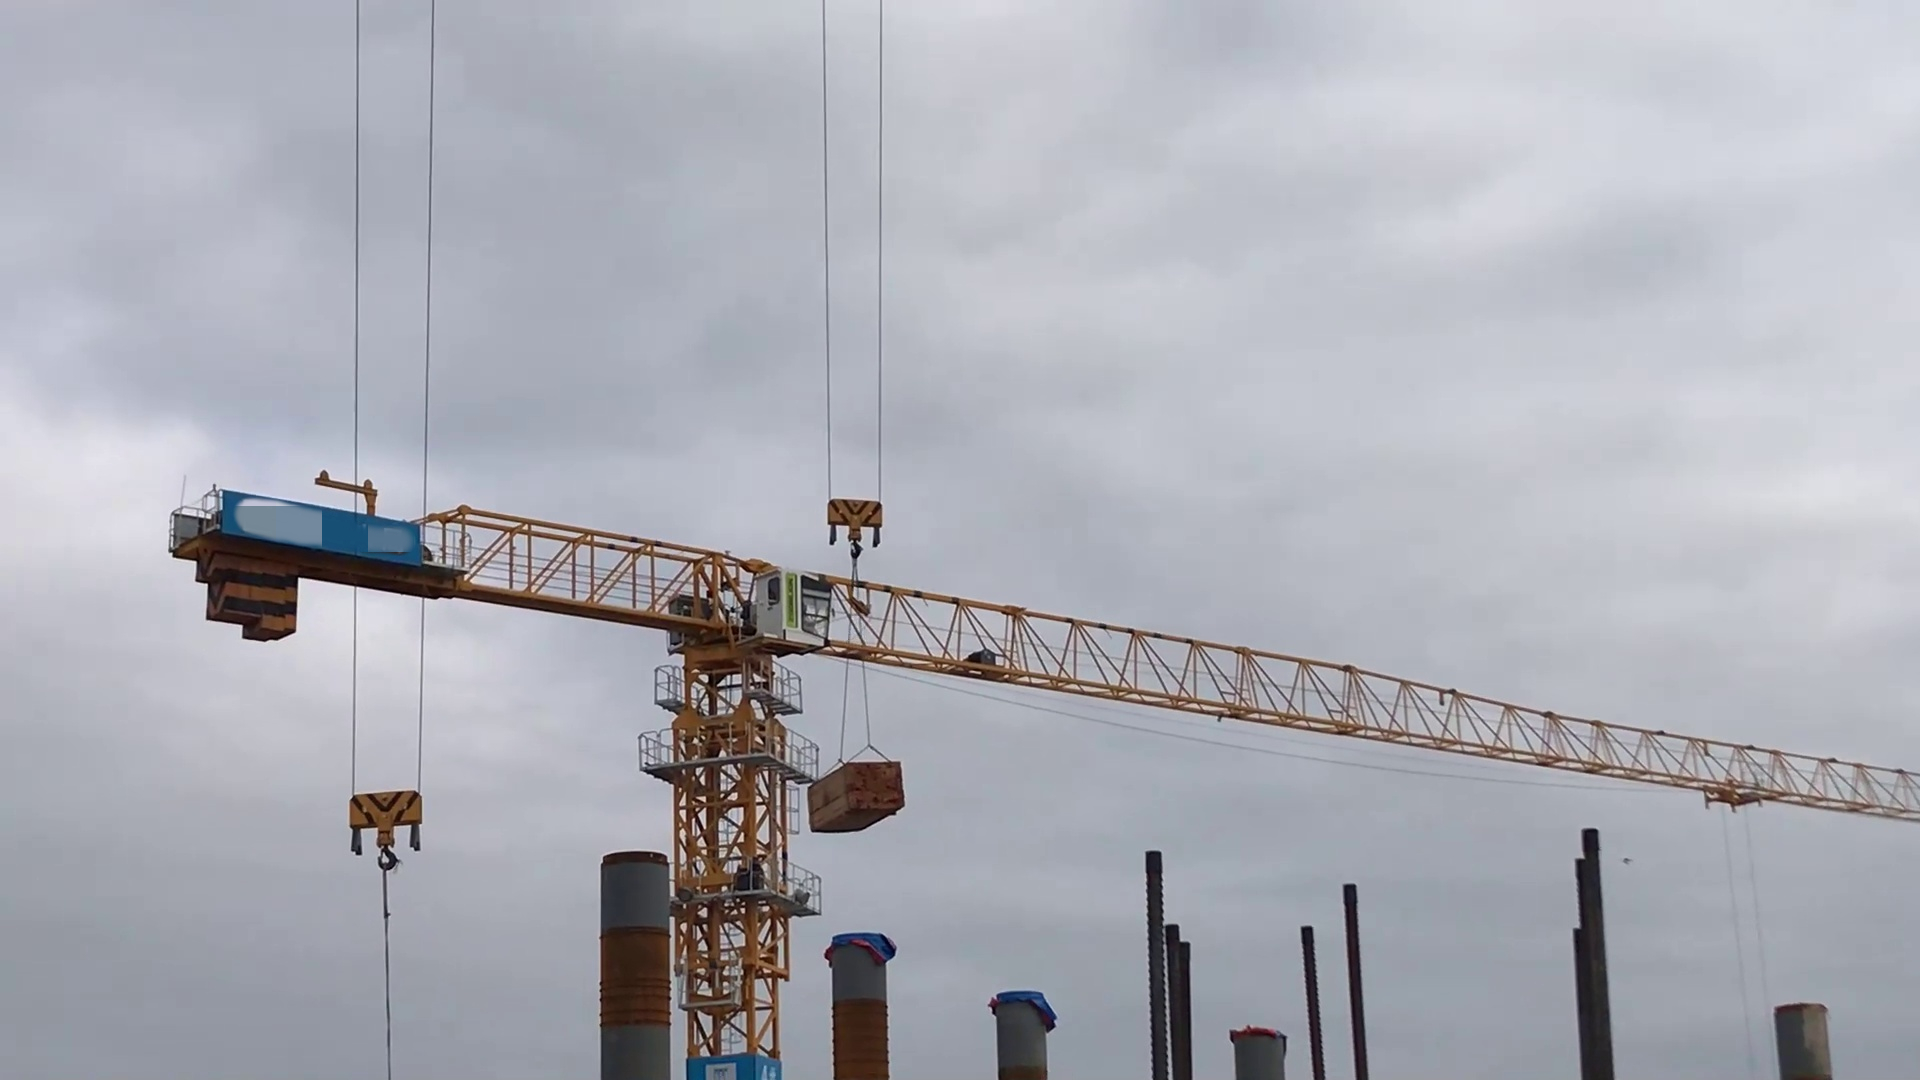hook: (332, 783, 436, 877), (803, 483, 895, 555)
wood: (804, 758, 907, 841)
